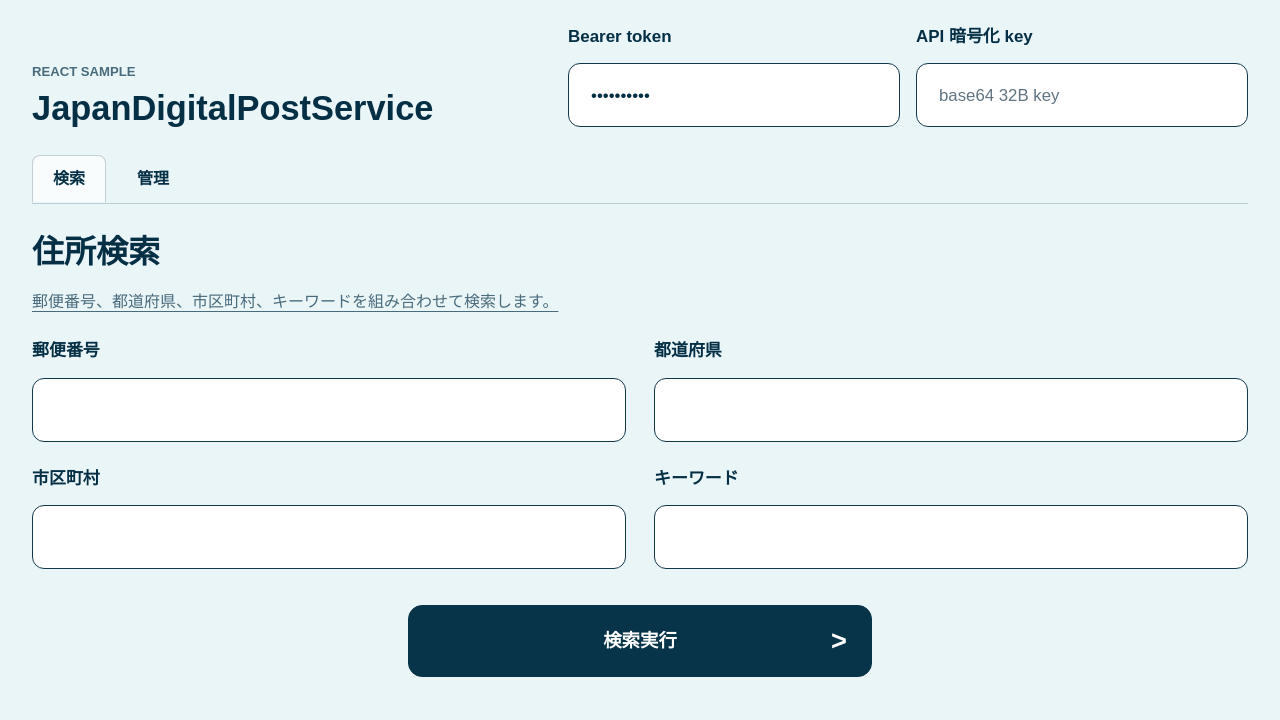
Test: App › renders zero-result and too-many-result search states
Type "not-found" into the field labelled "キーワード".
click(951, 537); type("not-found")  # box 654,505 -> 1248,569
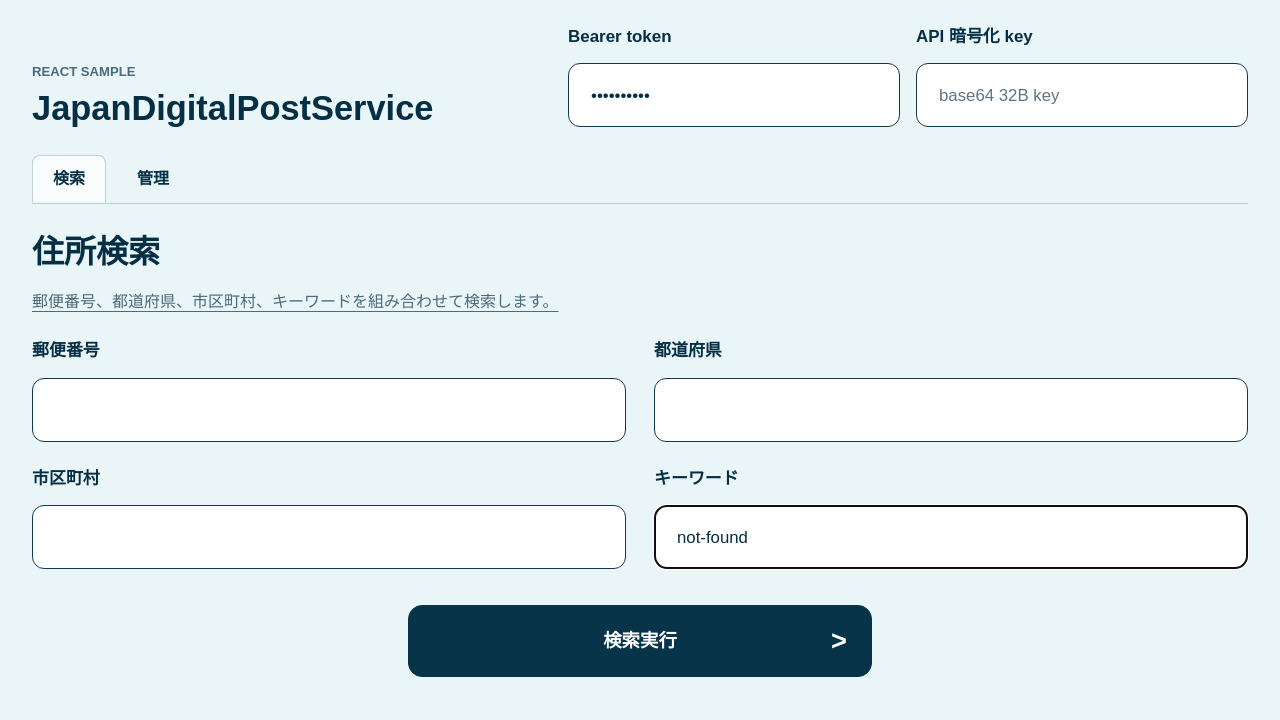
Click the button "検索実行".
click(640, 641)  # box 408,605 -> 872,677
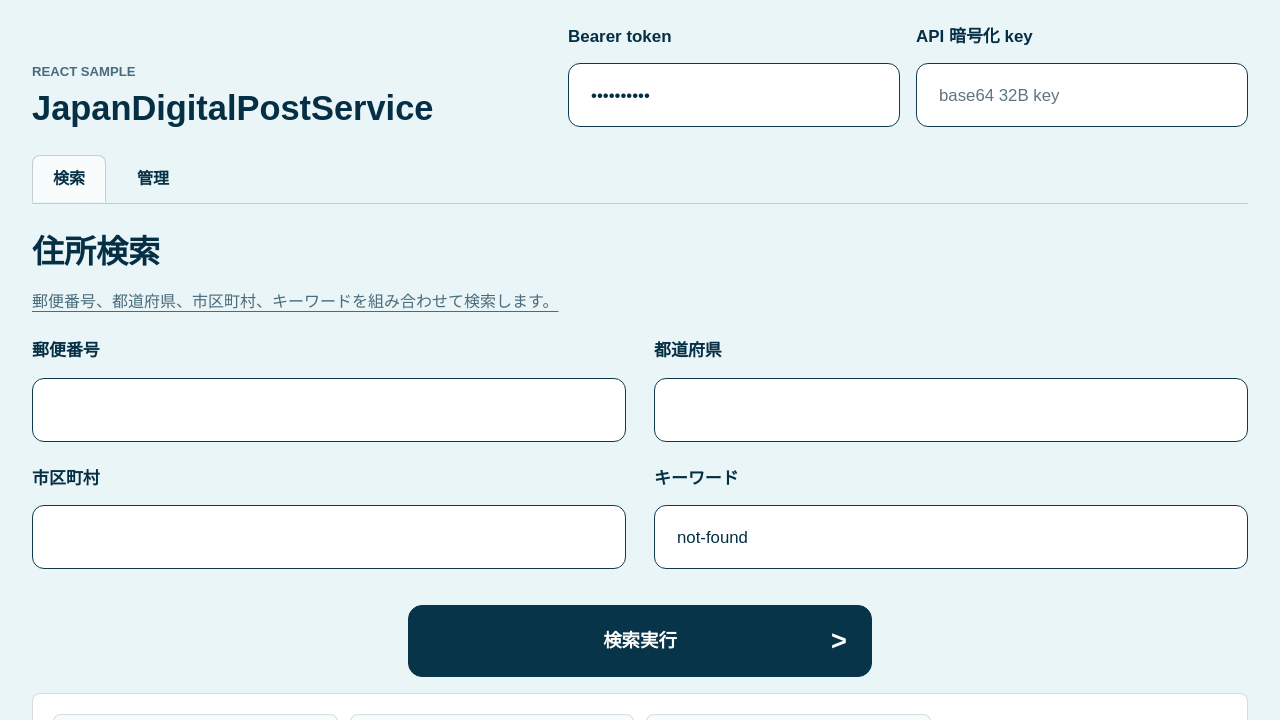
Replace the text in the field labelled "キーワード" with "東京" at (951, 537), box 654,505 -> 1248,569
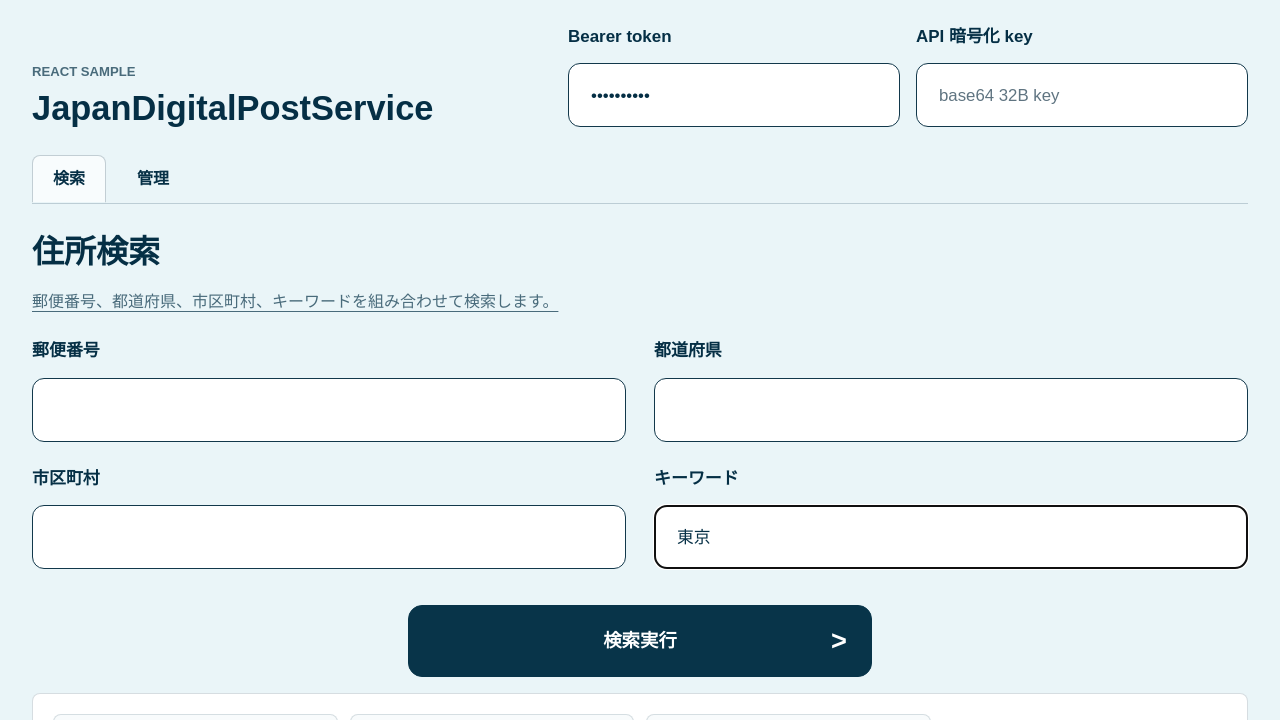
Click the button "検索実行".
click(640, 641)  # box 408,605 -> 872,677
(page scrolled)
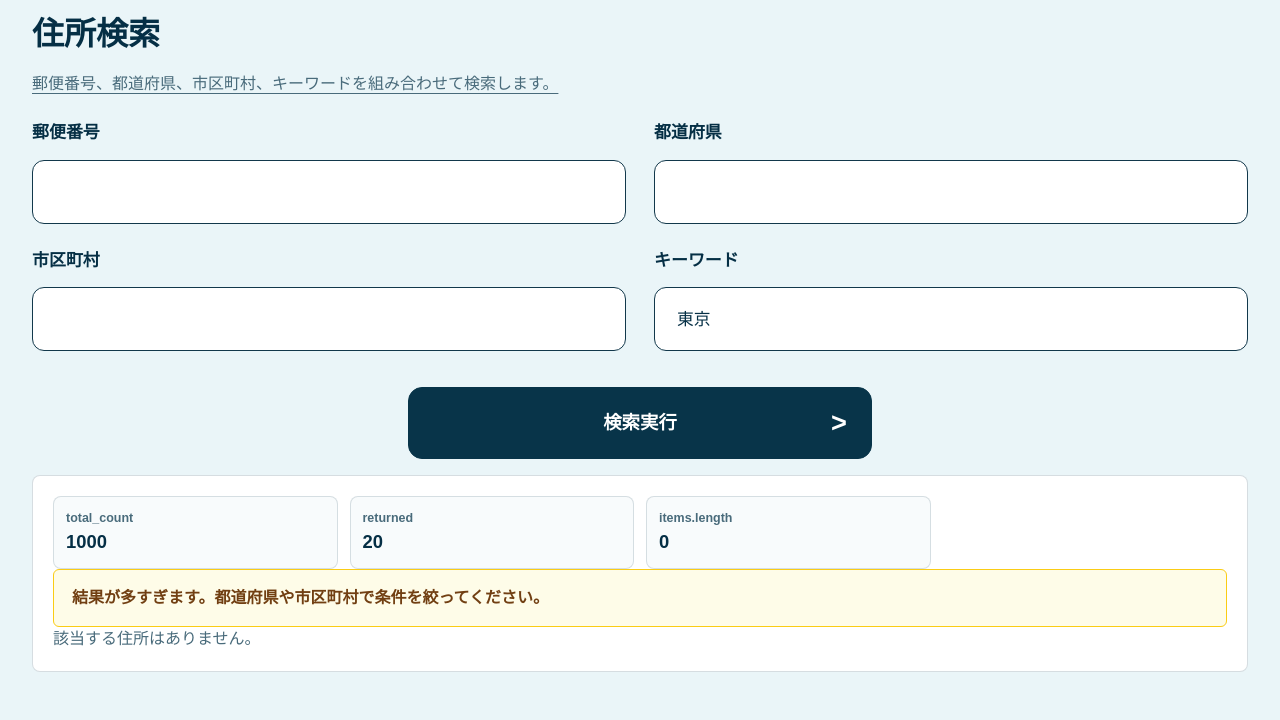
Now the text "結果が多すぎます。都道府県や市区町村で条件を絞ってください。" is shown, box 53,569 -> 1227,627
